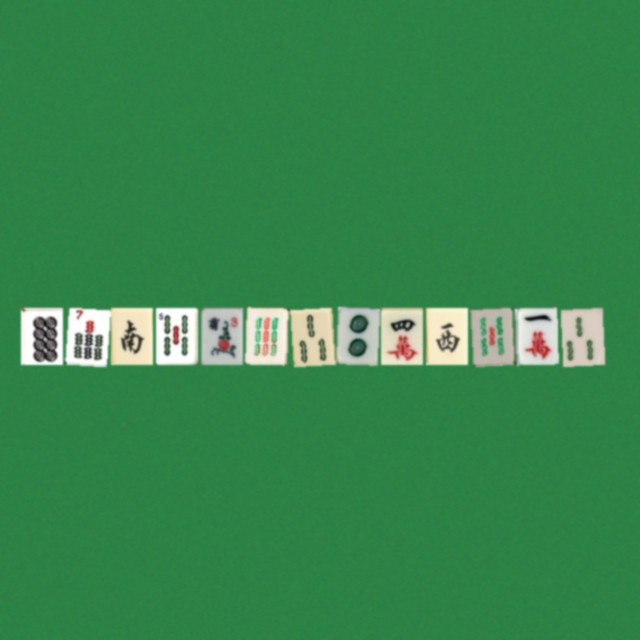tile: (20, 307, 62, 364), (65, 307, 107, 364), (110, 307, 152, 364), (155, 307, 197, 364), (200, 307, 242, 364), (245, 307, 287, 364), (290, 307, 332, 364), (335, 307, 377, 364), (380, 307, 422, 364), (425, 307, 467, 364), (470, 307, 512, 364), (515, 307, 557, 364), (560, 307, 602, 364)
